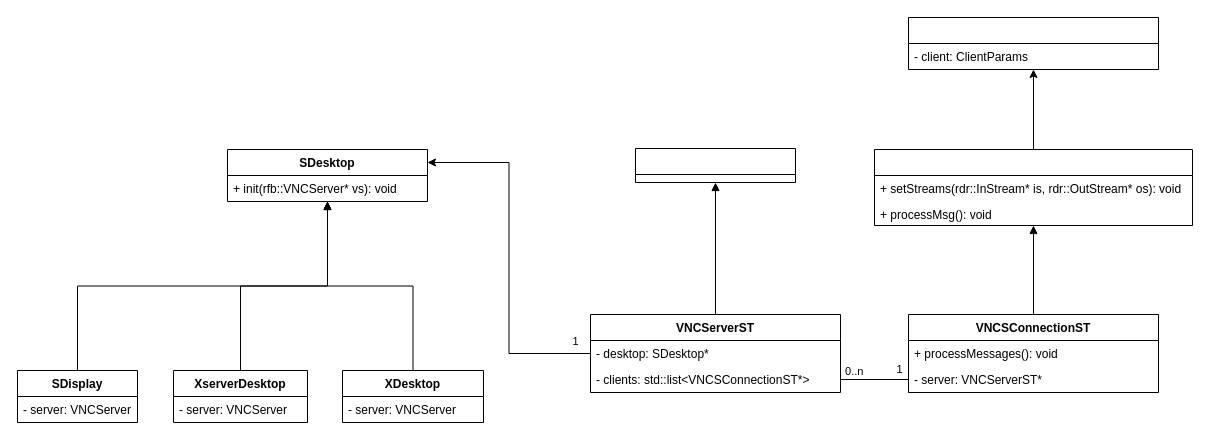
This 1210x443 diagram has some shape labels left out. The box of each missing label's shape, as (x1, y1, x2, y2) in pixels:
SConnection: (874, 148, 1192, 226)
SMsgHandler: (908, 16, 1158, 70)
VNCServer: (634, 148, 796, 182)
